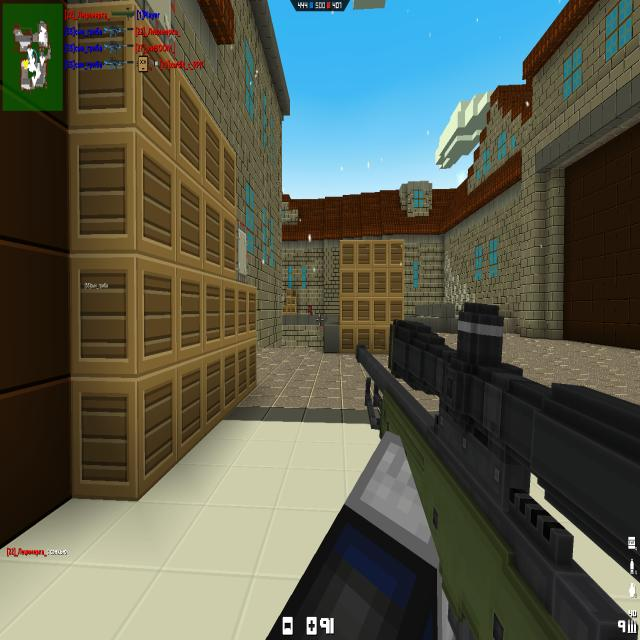player: (307, 305, 313, 313)
